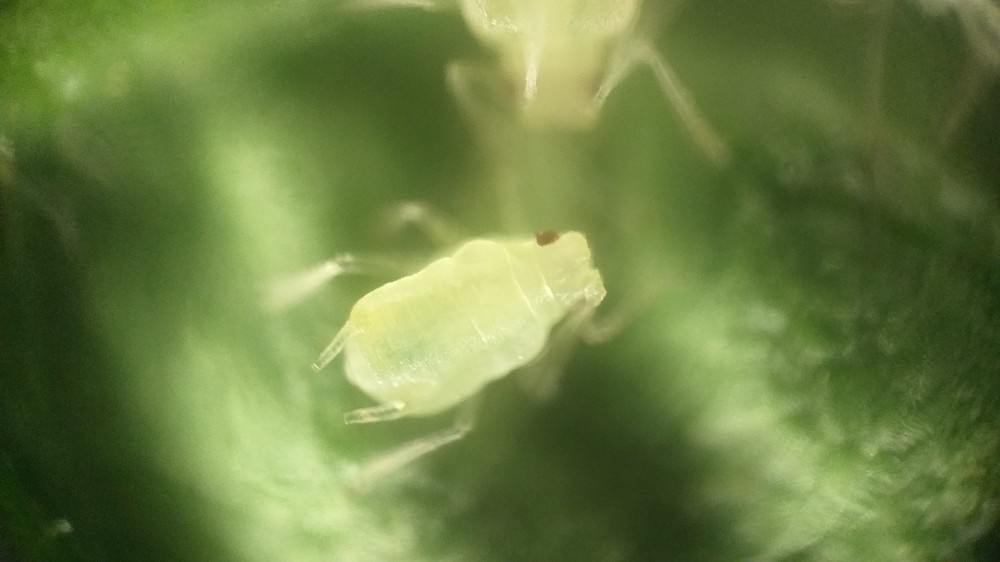Pulgon: (289, 159, 629, 499)
